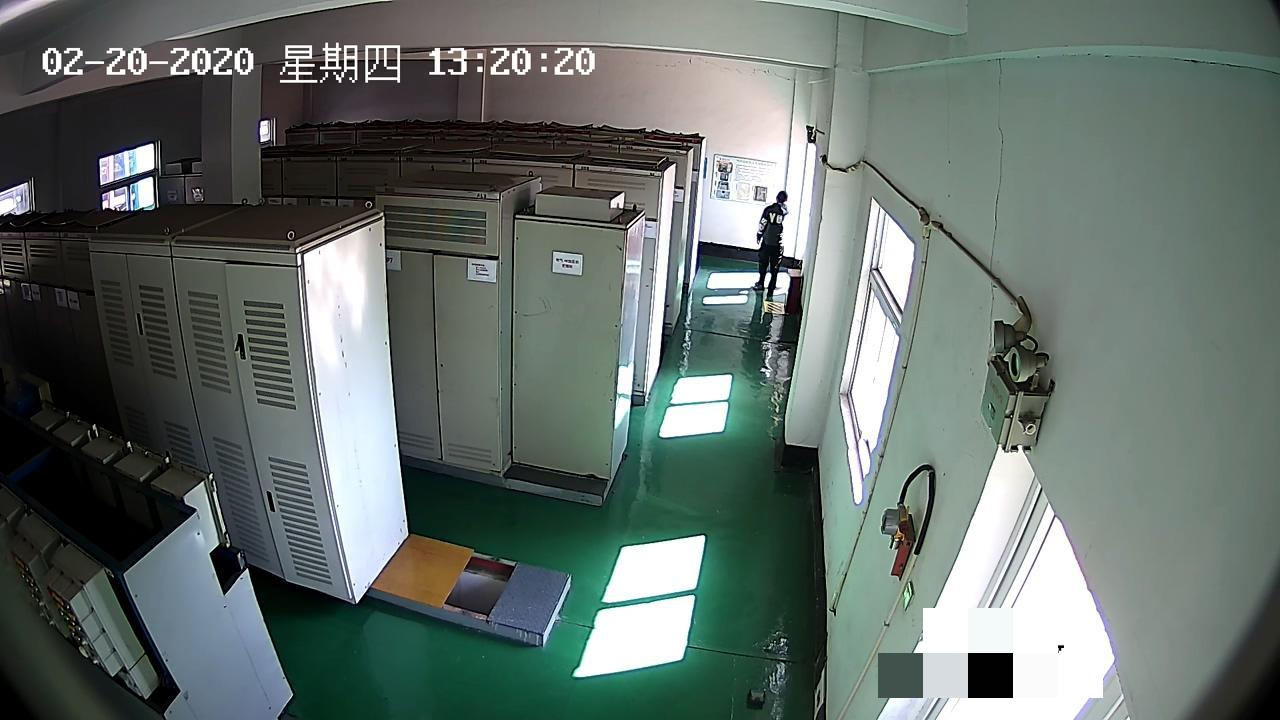head: (775, 190, 788, 203)
person: (754, 188, 791, 294)
